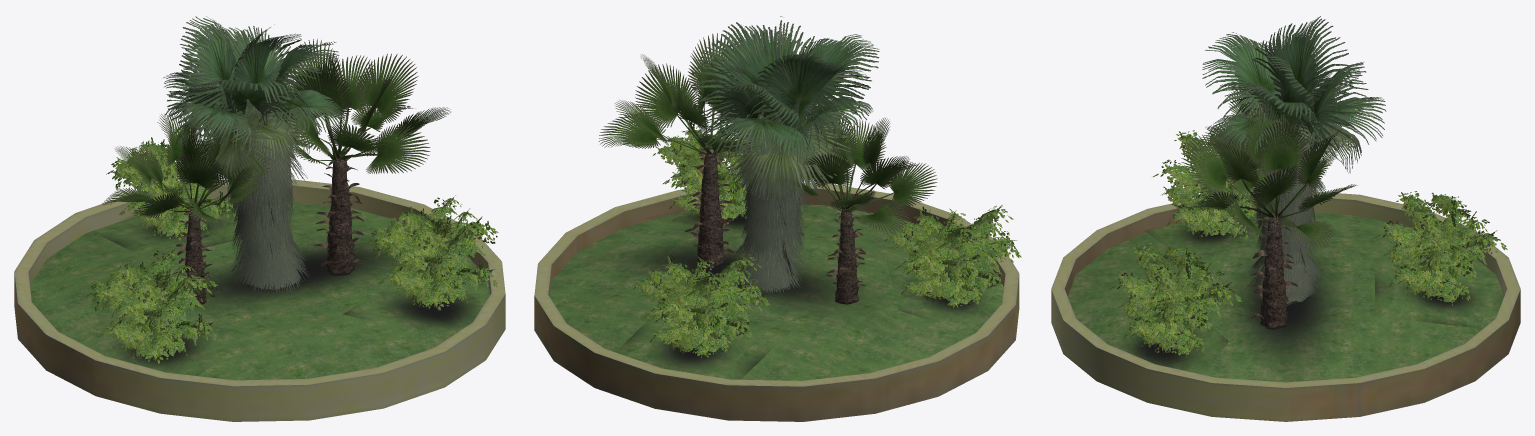
Rendered from huatan.gltf.
3 renders of one model, left to right at view 1: azimuth 30°, elevation 25°; view 2: azimuth 150°, elevation 25°; view 3: azimuth 270°, elevation 25°, orthographic. The views are drawn at different scales.
Parts seen in each view (by area): view 1: caop001, 对象002, redaishu, shanshu001, shanshu, xiaoshu001, xiaoshu002, Plane005 (1), xiaoshu, Plane003, Plane006, Plane005; view 2: caop001, 对象002, redaishu, shanshu001, shanshu, xiaoshu, xiaoshu002, Plane005 (1), xiaoshu001, Plane005, Plane006, Plane003; view 3: caop001, 对象002, redaishu, shanshu001, xiaoshu001, xiaoshu, Plane005 (1), xiaoshu002, Plane003, Plane005, Plane006, shanshu.
Part boxes in pixels (box(x1,y1,x2,y2)): caop001: box(30, 201, 489, 380); 对象002: box(14, 179, 505, 421); redaishu: box(163, 16, 346, 293); shanshu001: box(255, 38, 450, 275); shanshu: box(101, 114, 272, 306); xiaoshu001: box(365, 195, 498, 310); xiaoshu002: box(85, 248, 217, 363); Plane005 (1): box(194, 241, 399, 308); xiaoshu: box(106, 129, 237, 240); Plane003: box(343, 292, 480, 330); Plane006: box(112, 319, 209, 375); Plane005: box(103, 208, 235, 249); caop001: box(550, 204, 1003, 380); 对象002: box(534, 183, 1019, 421); redaishu: box(691, 16, 879, 294); shanshu001: box(598, 33, 749, 267); shanshu: box(783, 114, 937, 304); xiaoshu: box(633, 253, 769, 357); xiaoshu002: box(884, 205, 1021, 309); Plane005 (1): box(615, 242, 869, 311); xiaoshu001: box(653, 121, 751, 224); Plane005: box(621, 318, 789, 378); Plane006: box(899, 277, 1001, 318); Plane003: box(674, 211, 804, 235); caop001: box(1067, 212, 1504, 382); 对象002: box(1051, 192, 1520, 421); redaishu: box(1202, 16, 1386, 303); shanshu001: box(1178, 102, 1357, 329); xiaoshu001: box(1109, 243, 1241, 357); xiaoshu: box(1374, 191, 1507, 305); Plane005 (1): box(1232, 253, 1337, 370); xiaoshu002: box(1153, 130, 1258, 239); Plane003: box(1122, 327, 1228, 370); Plane005: box(1375, 259, 1503, 326); Plane006: box(1145, 219, 1256, 246); shanshu: box(1200, 90, 1342, 155).
Bounding box in the file's own units: 8800 × 5882 × 8800.
6 materials, 6 textured.
